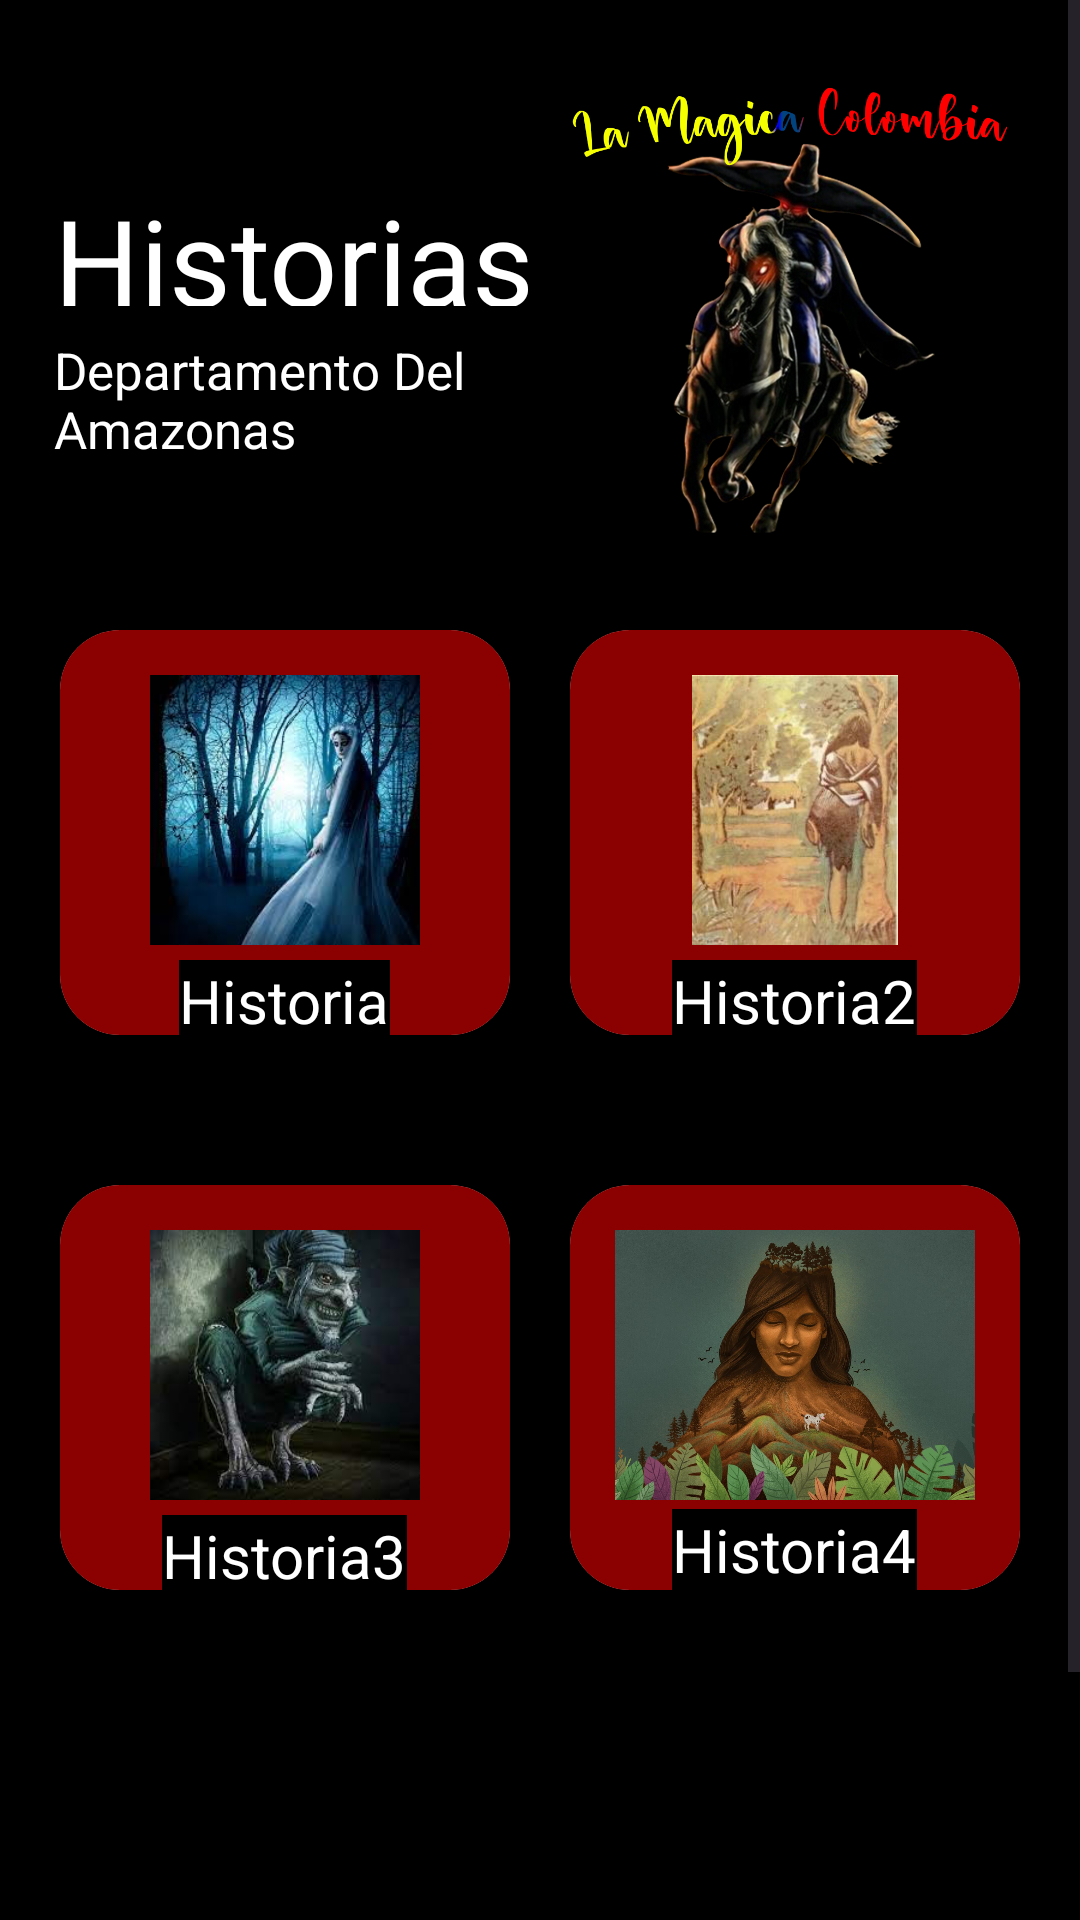

Point at icon controls on the screen. Image size 1080px x 1920px, points as (x,y).
elduende: (285,1365)
llorana: (285,810)
madremonte: (795,1365)
